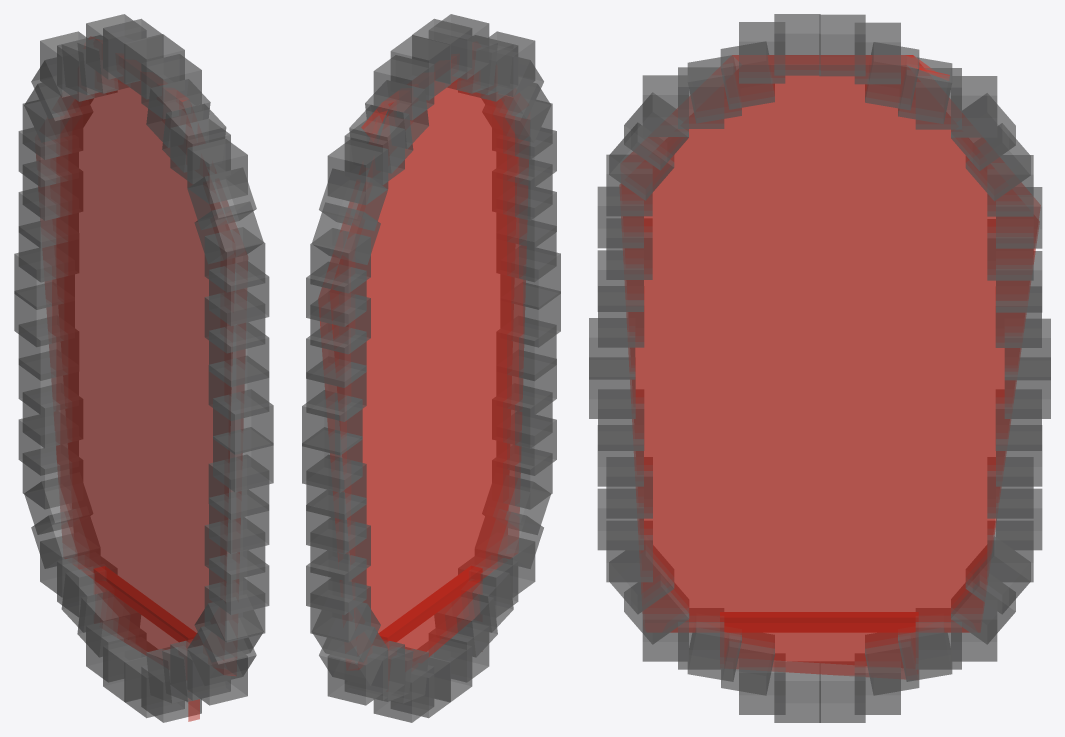
File: Portal R.fbx
3 renders of one model, left to right at view 1: azimuth 30°, elevation 25°; view 2: azimuth 150°, elevation 25°; view 3: azimuth 270°, elevation 25°, orthographic. The views are drawn at different scales.
Parts seen in each view (by area): view 1: Cube.002, Cube; view 2: Cube.002, Cube; view 3: Cube, Cube.002.
Part boxes in pixels (left/top/right/bottom): Cube.002: left=14, top=14, right=273, bottom=722; Cube: left=36, top=39, right=247, bottom=721; Cube.002: left=302, top=14, right=560, bottom=722; Cube: left=318, top=60, right=528, bottom=669; Cube: left=619, top=55, right=1040, bottom=679; Cube.002: left=589, top=14, right=1050, bottom=722.
Size of the model in its own units: 200 by 3278 by 1990.
